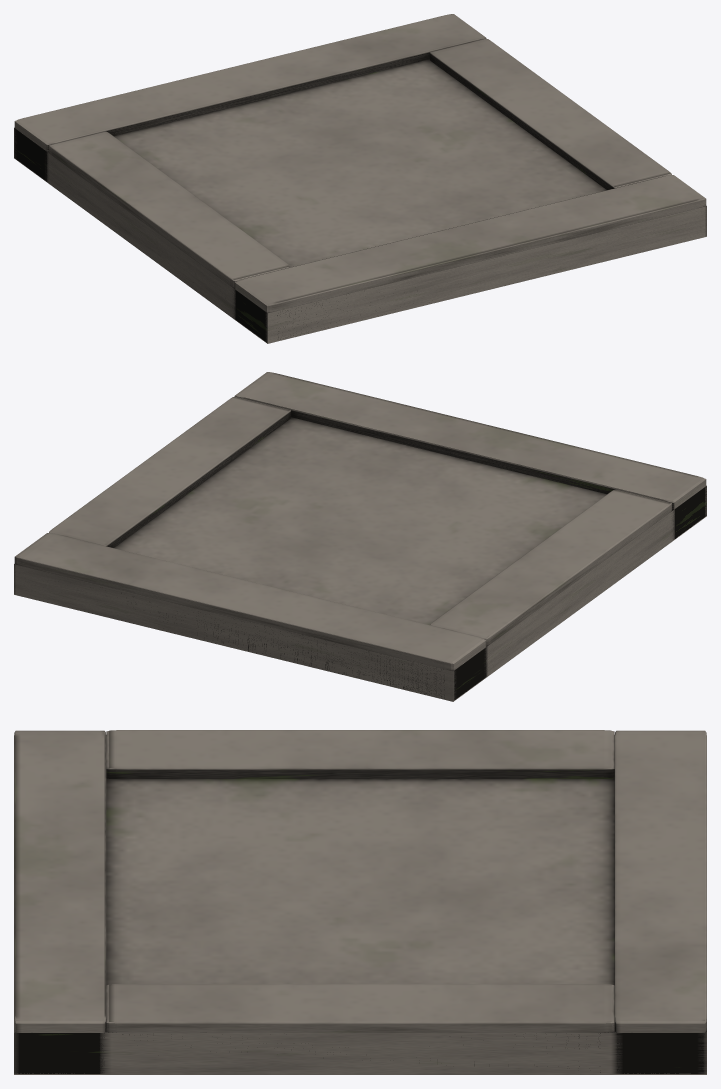
Rendered from puzzle_placa_base.glb.
3 views of the same model, one above another, from view 1: azimuth 30°, elevation 25°; view 2: azimuth 150°, elevation 25°; view 3: azimuth 270°, elevation 25° (orthographic). The views are drawn at different scales.
Parts seen in each view (by area): view 1: puzzle_placa_base; view 2: puzzle_placa_base; view 3: puzzle_placa_base.
Boxes of the visible parts, x1,y1,x2,y2 form: puzzle_placa_base: (14,14,706,343); puzzle_placa_base: (14,372,706,701); puzzle_placa_base: (14,730,706,1074).
Size of the model in its own units: 1.62 by 0.135 by 1.62.
Materials: 1 (1 with a texture image).
